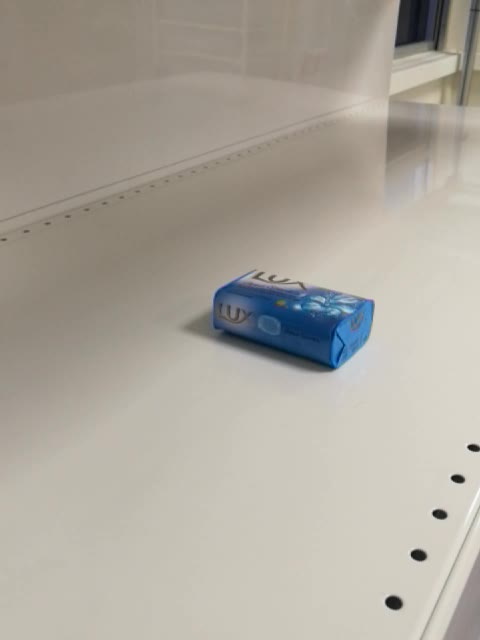soap: (210, 267, 375, 372)
